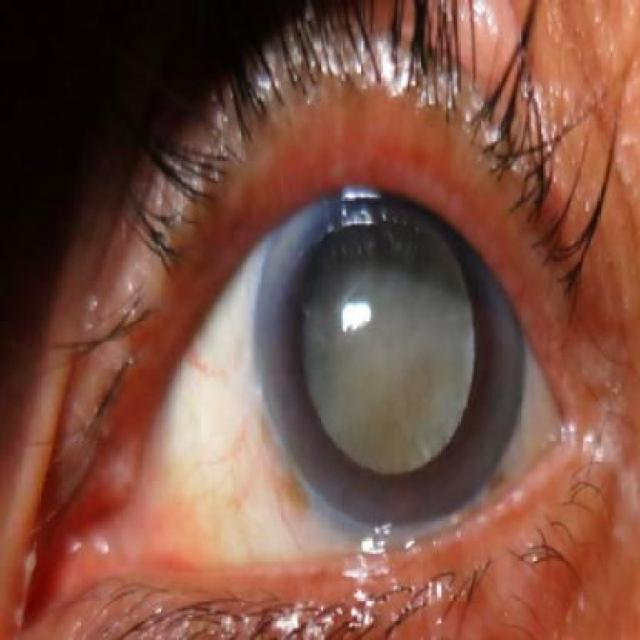Cataract: (254, 162, 526, 527)
